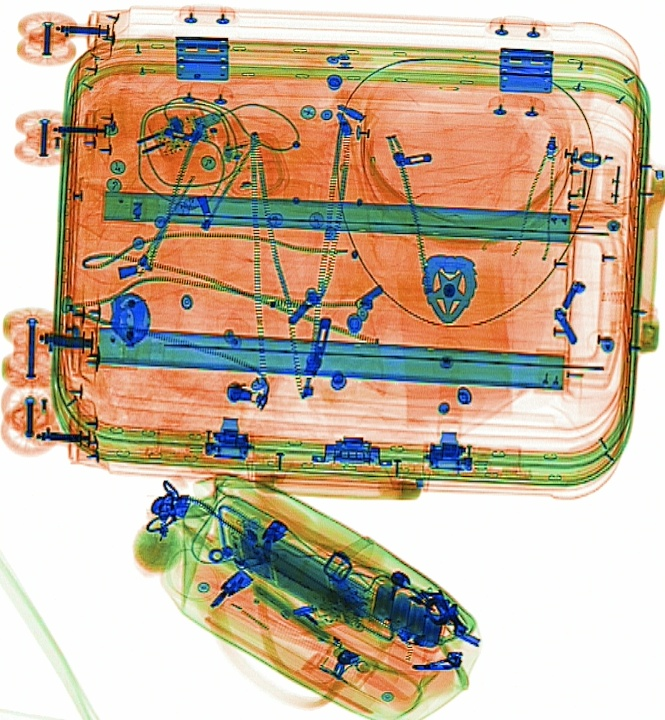powerbank: (364, 574, 455, 656)
